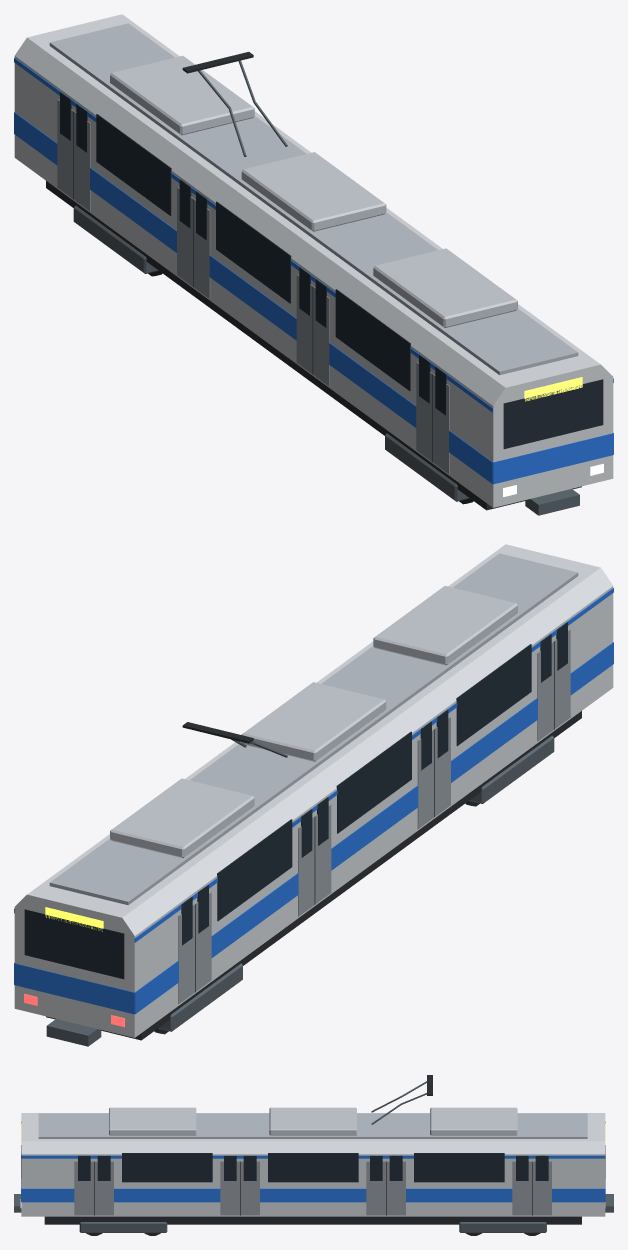
File: metro_car.glb
The picture shows the model from 3 angles, top to bottom: view 1: azimuth 30°, elevation 25°; view 2: azimuth 150°, elevation 25°; view 3: azimuth 270°, elevation 25°; orthographic projection. The views are drawn at different scales.
Visible parts, largest first — view 1: metro_car; view 2: metro_car; view 3: metro_car.
Boxes of the visible parts, x1,y1,x2,y2 form: metro_car: [14, 14, 613, 515]; metro_car: [14, 544, 613, 1046]; metro_car: [14, 1075, 613, 1235].
Bounding box in the file's own units: 2.94 × 5.34 × 20.55.
